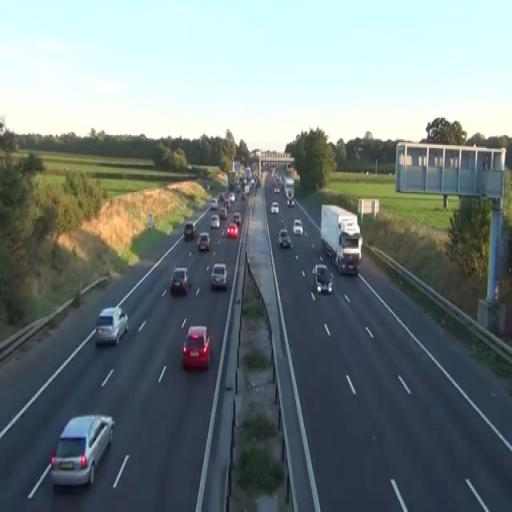Car: (50, 413, 115, 489), (182, 326, 213, 370), (95, 306, 128, 346), (312, 264, 333, 296), (170, 267, 191, 295), (210, 263, 228, 290), (278, 229, 292, 249), (225, 222, 239, 240), (198, 232, 210, 252), (293, 219, 304, 236), (210, 213, 220, 229), (270, 202, 280, 216)
Truck: (321, 204, 362, 275)
